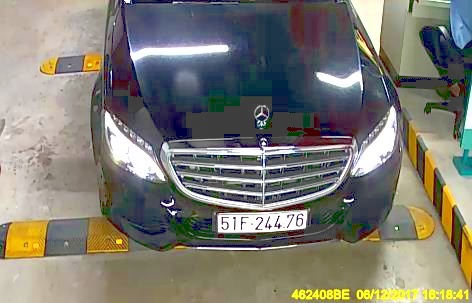plate: (213, 209, 311, 234)
